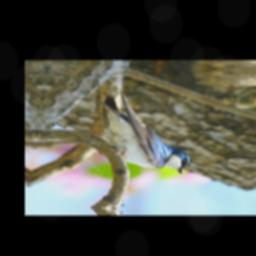Swallow: (81, 87, 201, 174)
